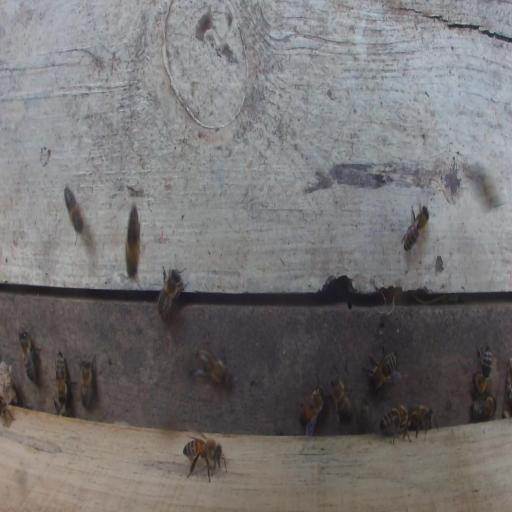bee: (182, 434, 227, 483), (156, 265, 188, 321), (298, 373, 325, 436), (365, 346, 398, 395), (192, 343, 229, 386), (329, 364, 353, 424), (18, 328, 43, 385), (379, 403, 411, 445), (63, 185, 84, 246), (402, 205, 429, 252), (125, 203, 140, 280), (473, 342, 492, 395), (54, 350, 68, 414), (409, 406, 436, 438), (79, 356, 93, 410), (469, 394, 497, 421), (503, 358, 512, 416), (1, 394, 14, 428), (359, 399, 371, 433)
